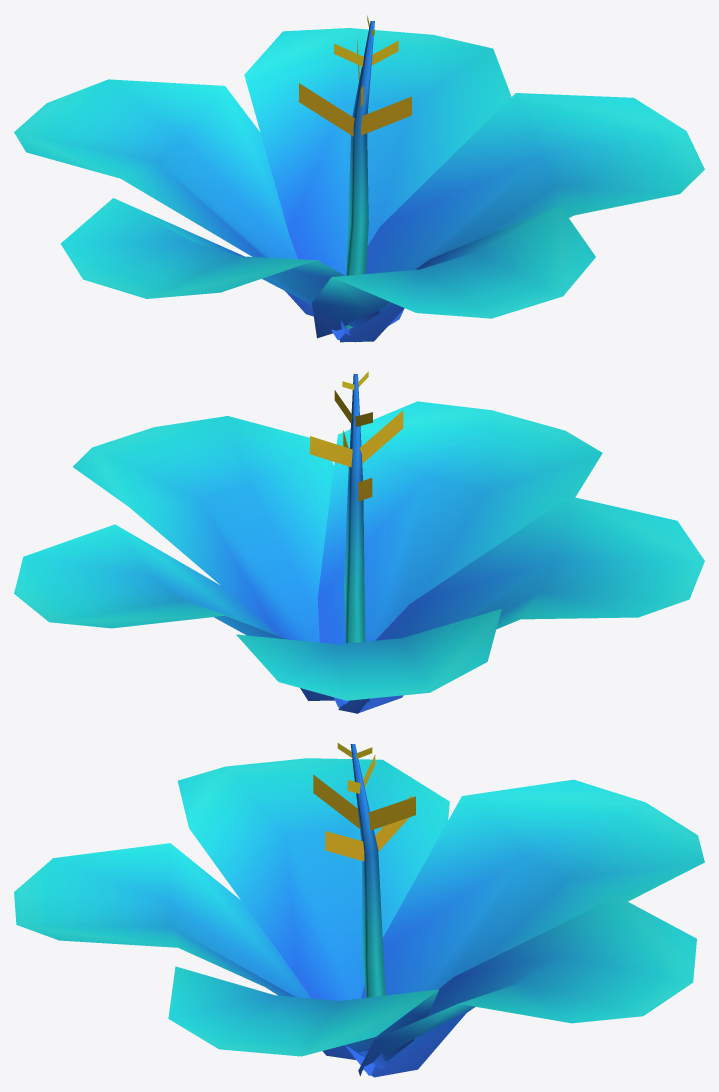
File: Hibiscus_SkyBlueBlue.fbx
3 renders of one model, top to bottom at view 1: azimuth 30°, elevation 25°; view 2: azimuth 150°, elevation 25°; view 3: azimuth 270°, elevation 25°, orthographic. The views are drawn at different scales.
Visible parts, largest first — view 1: Hibiscus_SkyBlueBlue; view 2: Hibiscus_SkyBlueBlue; view 3: Hibiscus_SkyBlueBlue.
Part boxes in pixels (<box>): Hibiscus_SkyBlueBlue: <box>14,15,704,342</box>; Hibiscus_SkyBlueBlue: <box>14,371,704,713</box>; Hibiscus_SkyBlueBlue: <box>14,743,704,1077</box>.
Bounding box in the file's own units: 40.86 × 20.85 × 39.5.
